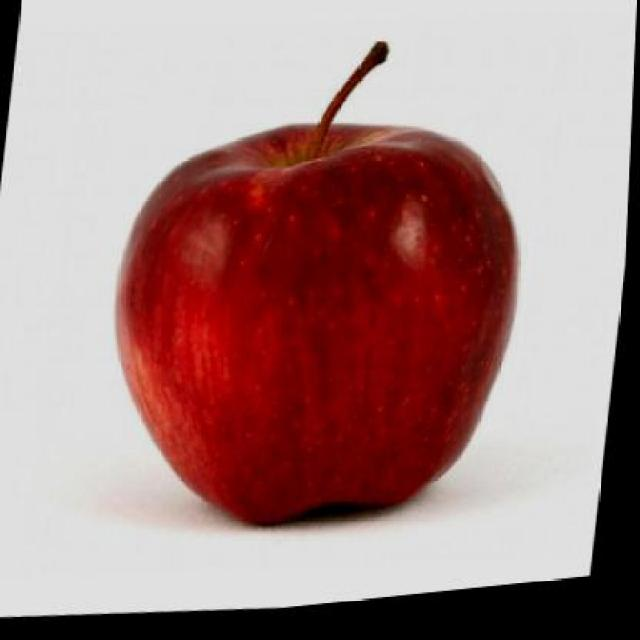Fresh Apple: (118, 120, 517, 534)
